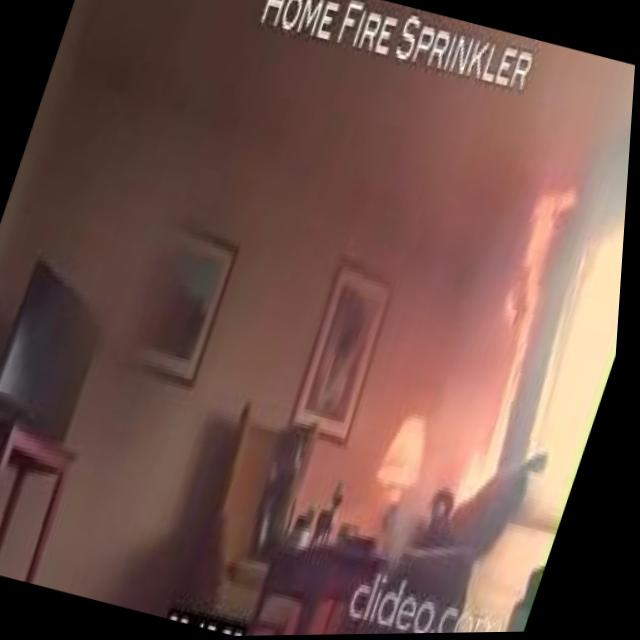fire: (438, 171, 596, 504)
